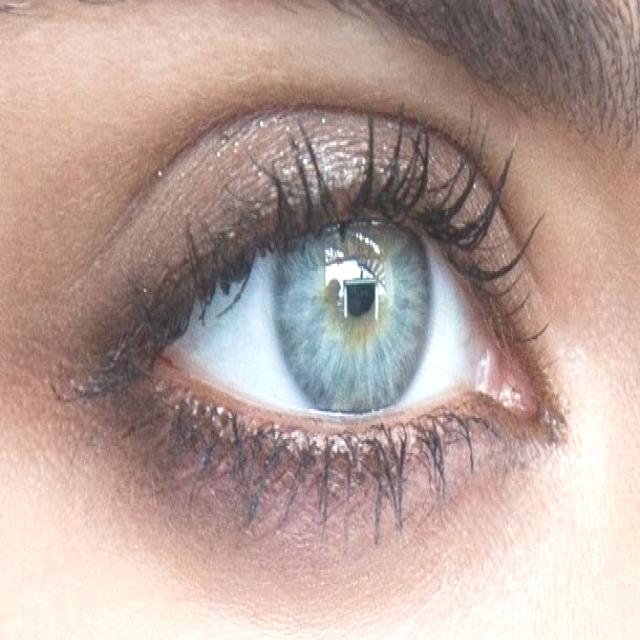Normal: (57, 104, 605, 483)
